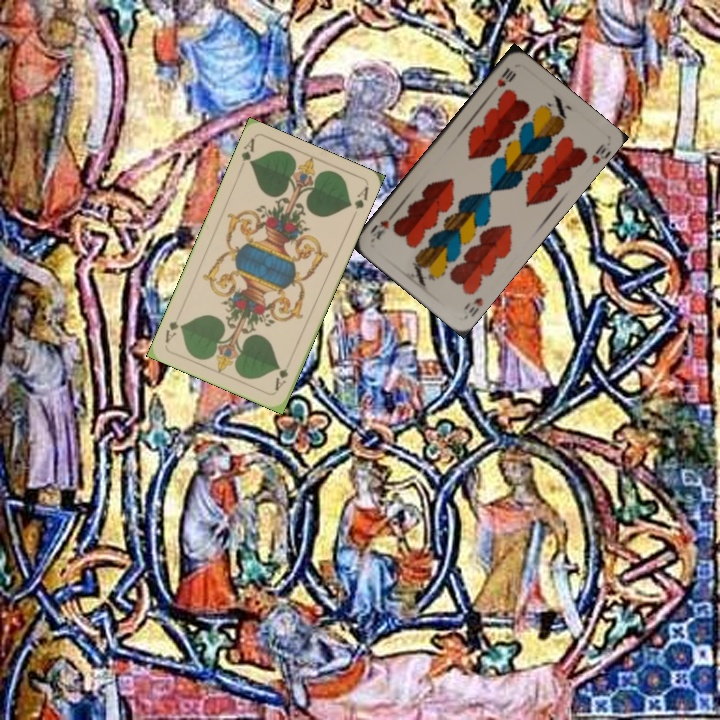GA: (271, 356, 294, 393), (237, 134, 257, 168)
H10: (493, 64, 518, 90), (465, 293, 486, 319)
